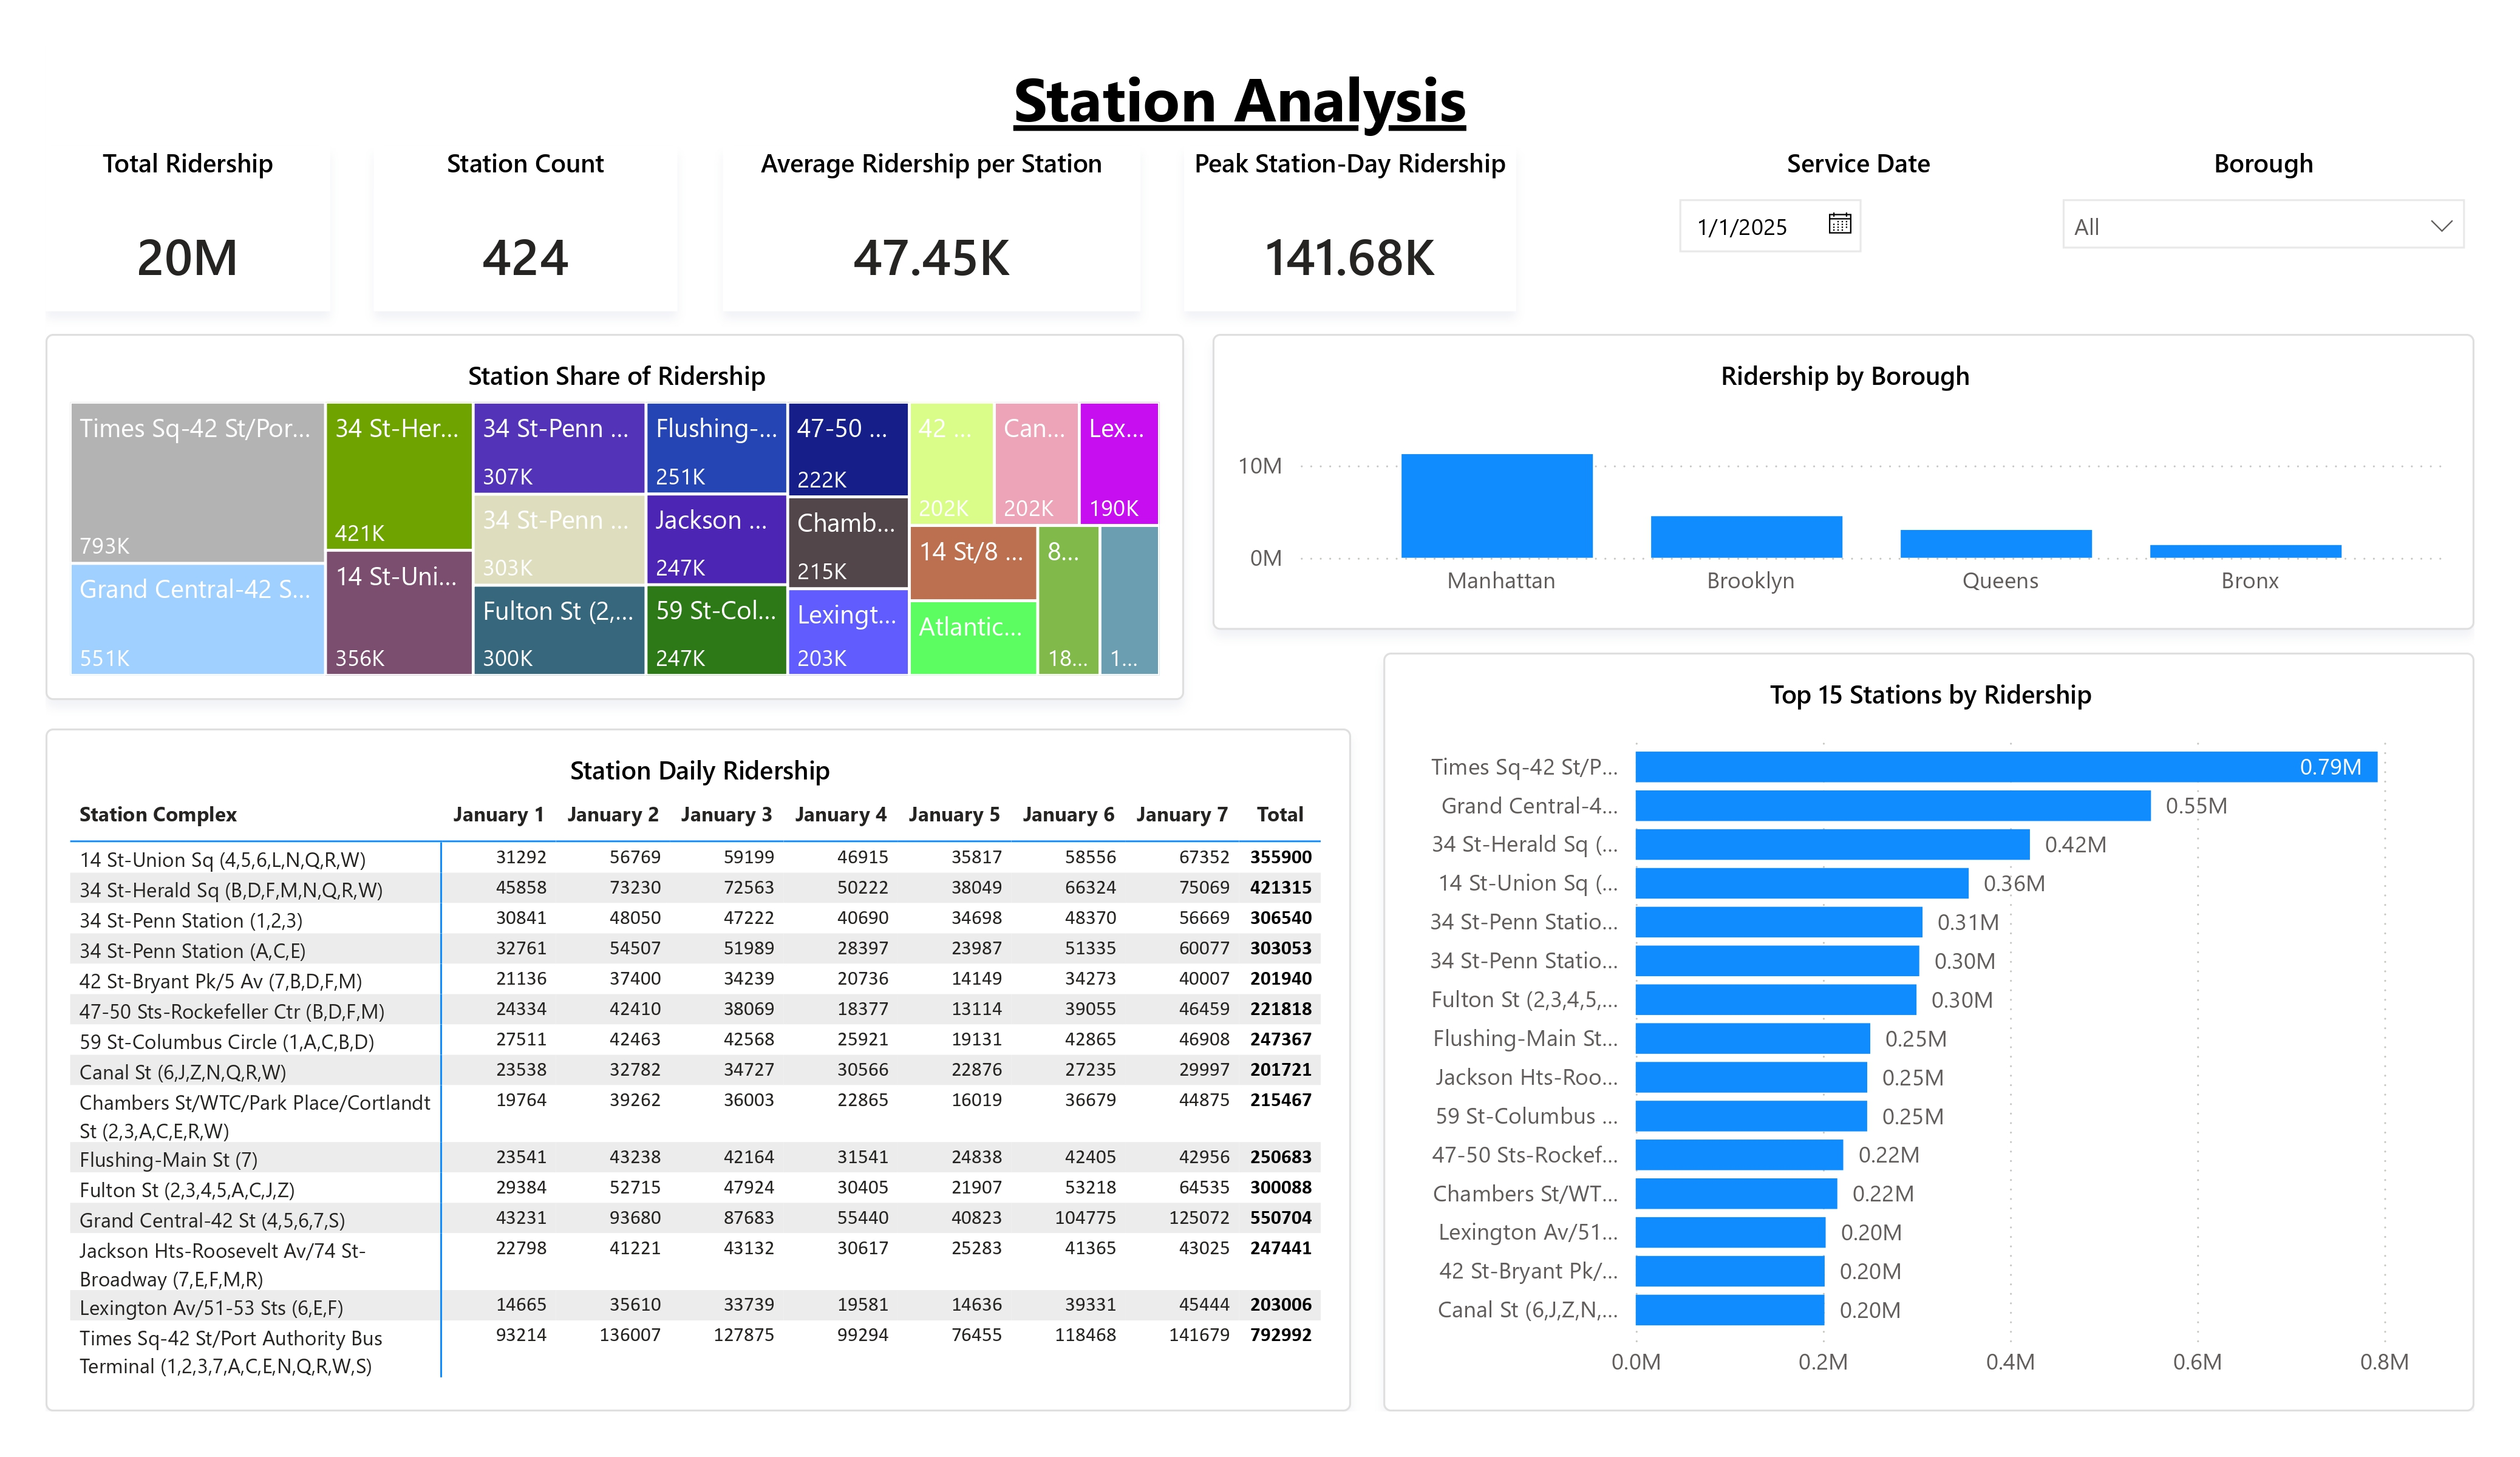

The page's visual inventory and layout, read from the dashboard file:
{"tool":"powerbi","page":{"name":"Station Analysis","canvas":[1280,720],"ordinal":1},"visuals":[{"type":"textbox","box":[505,0,250,52.5],"z":0},{"type":"cardVisual","title":"Total Ridership","fields":{"Data":["daily_station_ridership.Total Ridership"]},"box":[0,53.3,150,86.7],"z":1},{"type":"slicer","title":"Borough","fields":{"Values":["daily_station_ridership.borough"]},"box":[1058.3,53.3,221.7,60],"z":2},{"type":"barChart","title":"Top 15 Stations by Ridership","fields":{"Category":["daily_station_ridership.station_complex"],"Y":["daily_station_ridership.Total Ridership"]},"box":[705,320,575,400],"z":3},{"type":"columnChart","title":"Ridership by Borough","fields":{"Category":["daily_station_ridership.borough"],"Y":["daily_station_ridership.Total Ridership"]},"box":[615,151.7,665,156.7],"z":4},{"type":"pivotTable","title":"Station Daily Ridership","fields":{"Rows":["daily_station_ridership.station_complex"],"Values":["daily_station_ridership.Total Ridership"],"Columns":["daily_station_ridership.service_date"]},"box":[0,360,688.3,360],"z":5},{"type":"treemap","title":"Station Share of Ridership","fields":{"Group":["daily_station_ridership.station_complex"],"Values":["daily_station_ridership.Total Ridership"]},"box":[0,151.7,600,193.3],"z":6},{"type":"cardVisual","title":"Station Count","fields":{"Data":["daily_station_ridership.Station Count"]},"box":[173.3,53.3,160,86.7],"z":7},{"type":"cardVisual","title":"Average Ridership per Station","fields":{"Data":["daily_station_ridership.Average Ridership per Station"]},"box":[356.7,53.3,220,86.7],"z":8},{"type":"cardVisual","title":"Peak Station-Day Ridership","fields":{"Data":["daily_station_ridership.Max Station Ridership"]},"box":[600,53.3,175,86.7],"z":9},{"type":"slicer","title":"Service Date","fields":{"Values":["daily_station_ridership.service_date"]},"box":[853.3,53.3,205,60],"z":10}]}

Visuals, with their boxes on the page's 1280x720 design canvas (x1, y1, x2, y2). These are canvas units, not pixel positions in the 2520x1457 screenshot, which may show the page scaled, cropped or inside an application window:
textbox: pyautogui.locateOnScreen(505, 0, 755, 52)
"Total Ridership" cardVisual: pyautogui.locateOnScreen(0, 53, 150, 140)
"Borough" slicer: pyautogui.locateOnScreen(1058, 53, 1280, 113)
"Top 15 Stations by Ridership" barChart: pyautogui.locateOnScreen(705, 320, 1280, 720)
"Ridership by Borough" columnChart: pyautogui.locateOnScreen(615, 152, 1280, 308)
"Station Daily Ridership" pivotTable: pyautogui.locateOnScreen(0, 360, 688, 720)
"Station Share of Ridership" treemap: pyautogui.locateOnScreen(0, 152, 600, 345)
"Station Count" cardVisual: pyautogui.locateOnScreen(173, 53, 333, 140)
"Average Ridership per Station" cardVisual: pyautogui.locateOnScreen(357, 53, 577, 140)
"Peak Station-Day Ridership" cardVisual: pyautogui.locateOnScreen(600, 53, 775, 140)
"Service Date" slicer: pyautogui.locateOnScreen(853, 53, 1058, 113)
